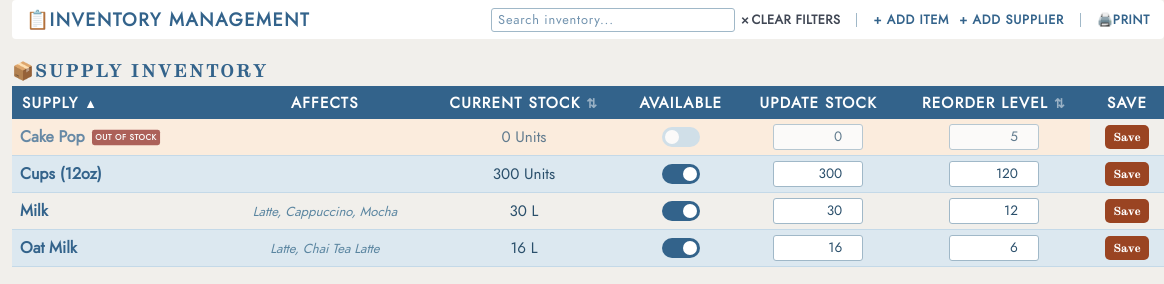
it: AdminInventoryPage › filters inventory from the shared search bar
The width and height of the screenshot is (1164, 284).
Check: the text "Milk" is shown, box [20,200,48,222]
Type "milk" into the field with placeholder "Search inventory...".
click(613, 20); type("milk")  # box [491,8,735,32]
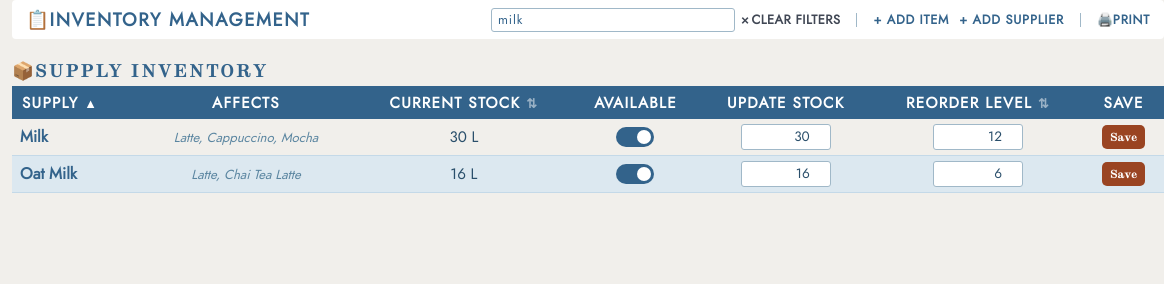
Check: the text "Milk" is shown, box [20,126,48,148]
Check: the text "Cups (12oz)" is gone
Check: the text "Cake Pop" is gone
Replace the text in the field with placeholder "Search inventory..." with "cups" at [613, 20], box [491,8,735,32]
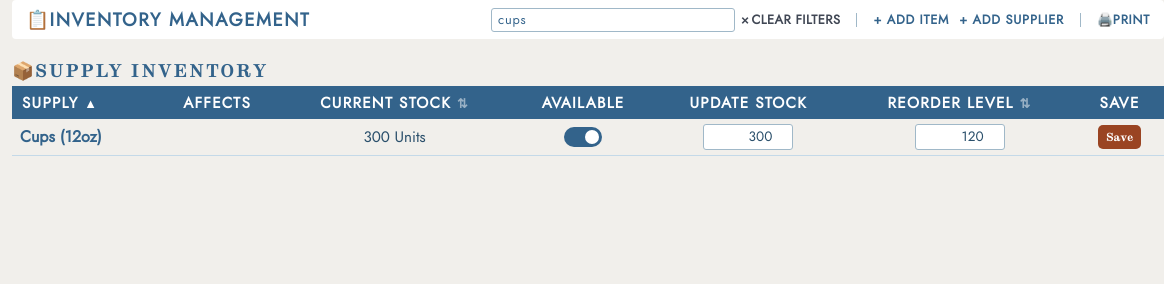
Check: the text "Cups (12oz)" is shown, box [20,126,102,148]
Check: the text "Milk" is gone
Check: the text "Oat Milk" is gone
